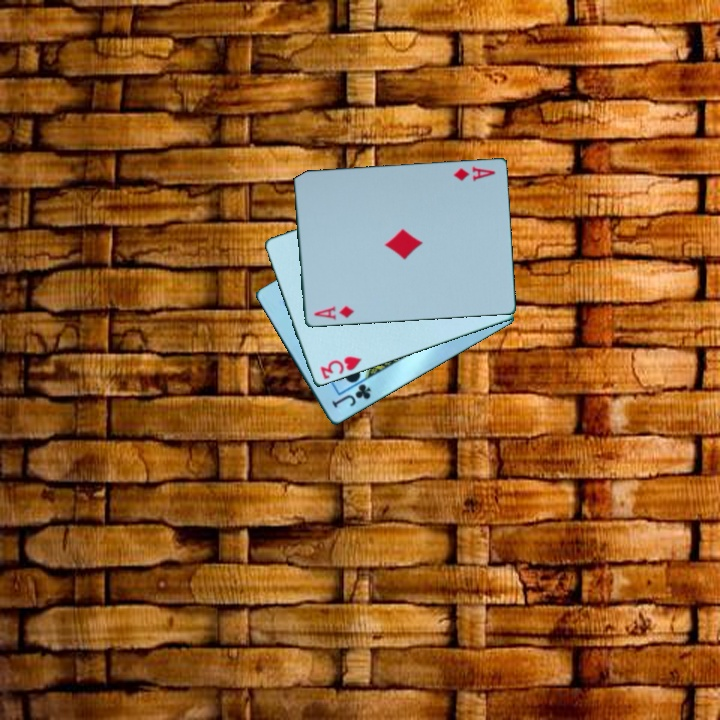3h: (316, 353, 365, 383)
Ad: (450, 163, 498, 185), (310, 302, 357, 323)
Jc: (328, 381, 374, 412)
